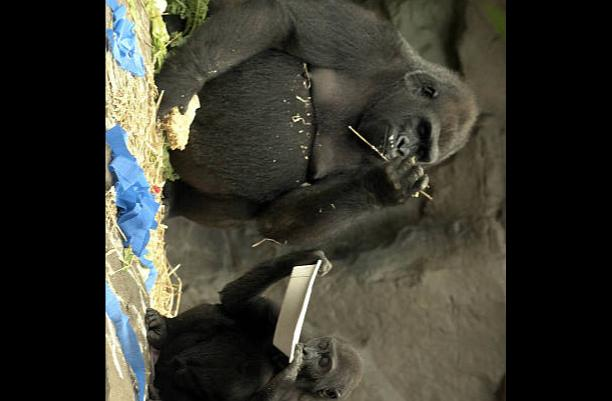gorille_Autres: (157, 0, 501, 249), (125, 258, 400, 401)
